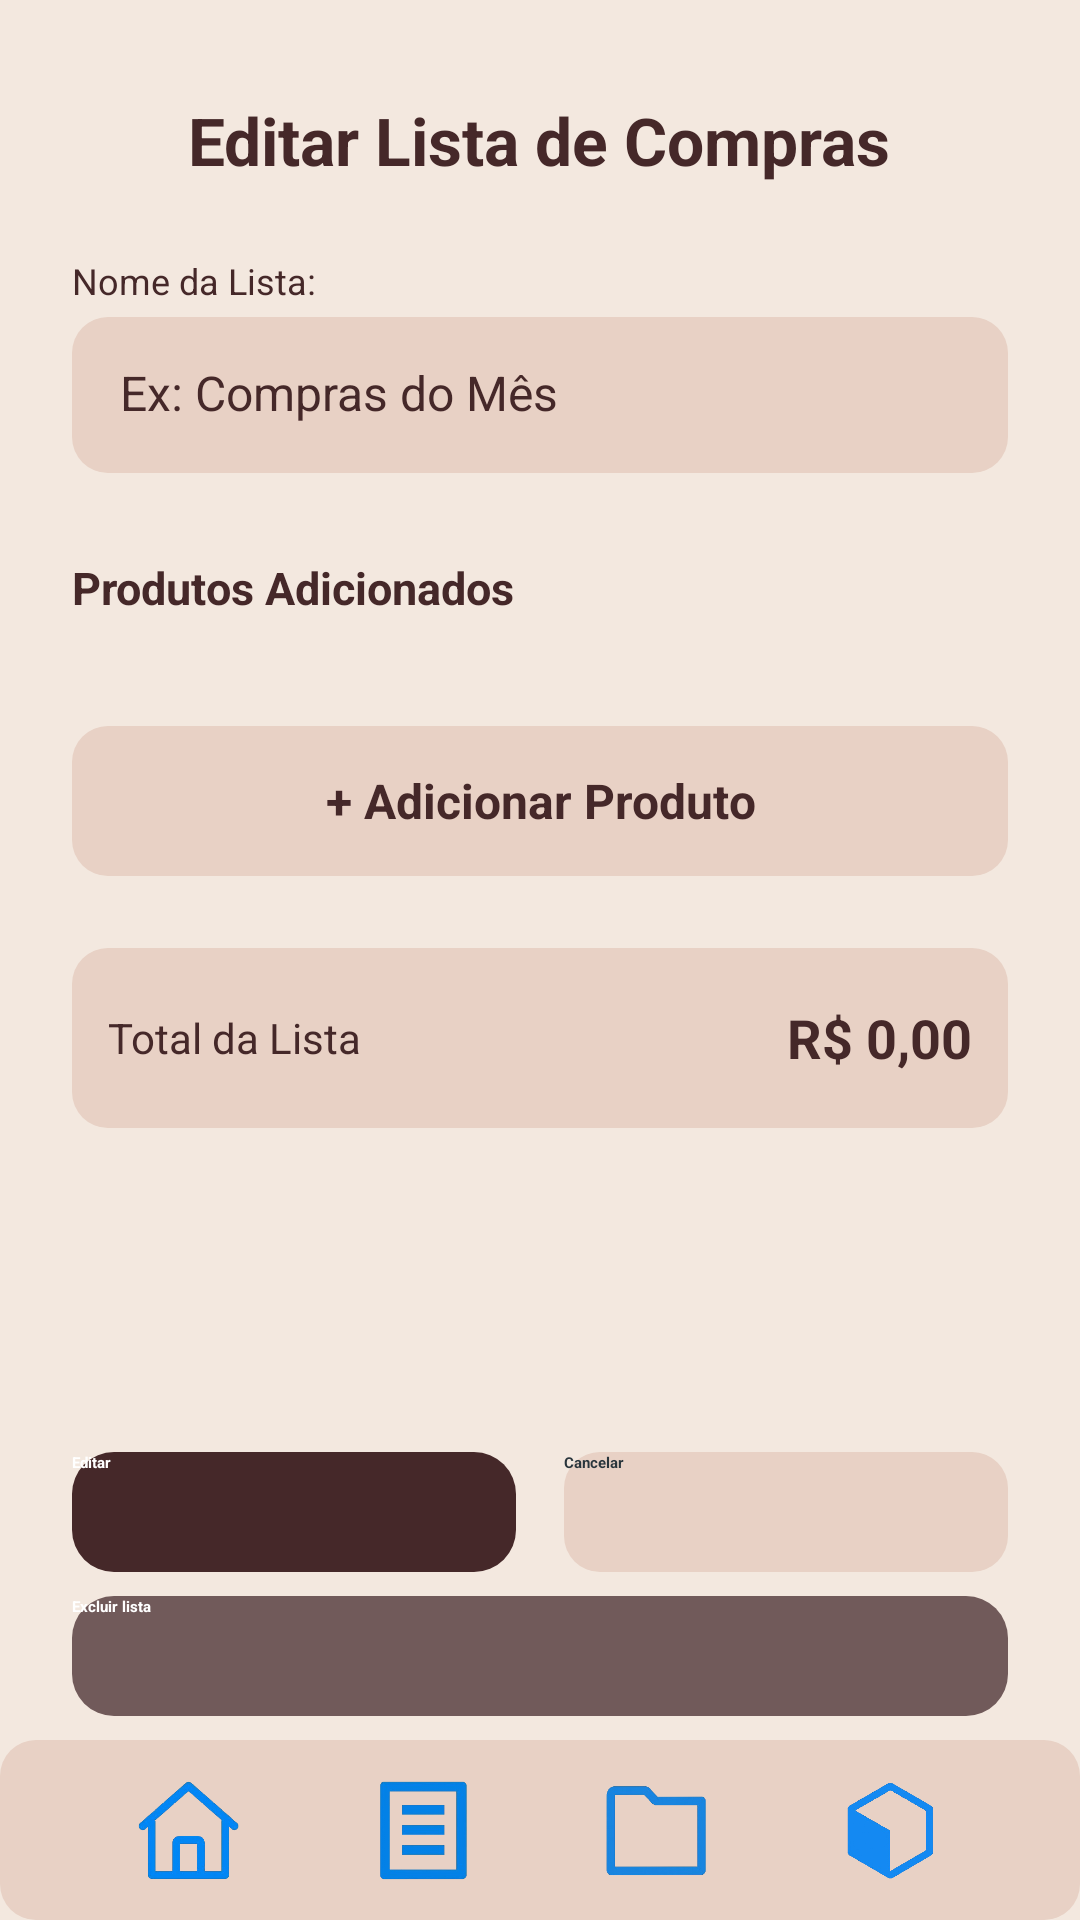

Icons on this 1080 x 1920 Android screen, each with its box as (x1, y1, x2, y2):
caixa: (847, 1783, 933, 1879)
home: (139, 1782, 239, 1879)
pasta: (606, 1786, 706, 1875)
